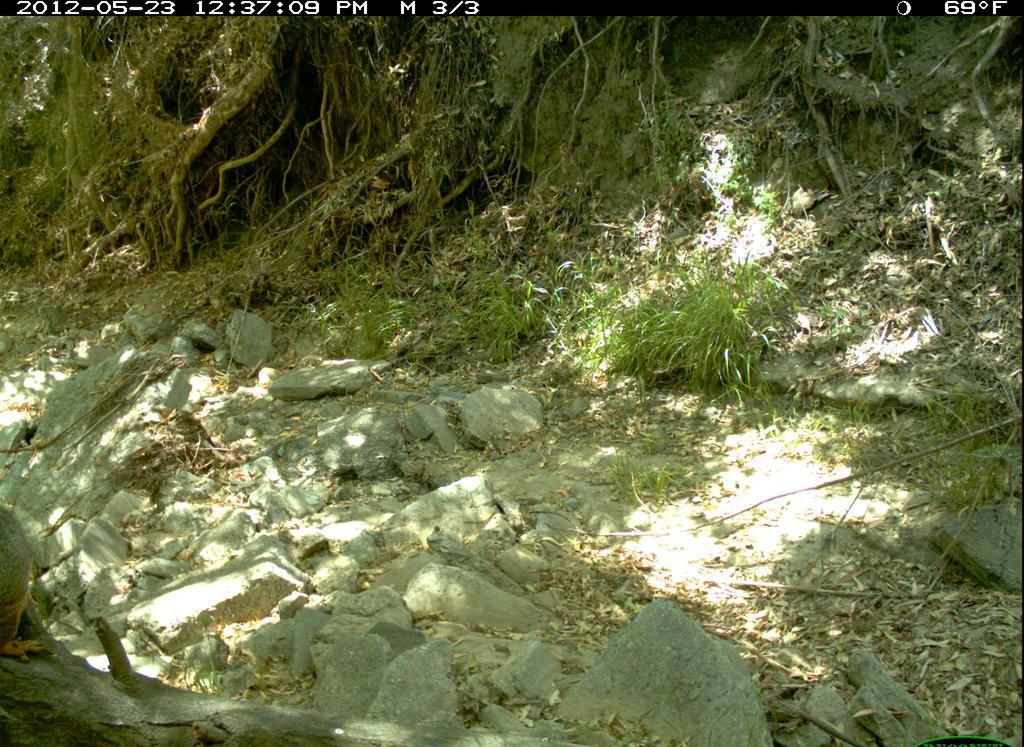squirrel: (1, 498, 49, 662)
